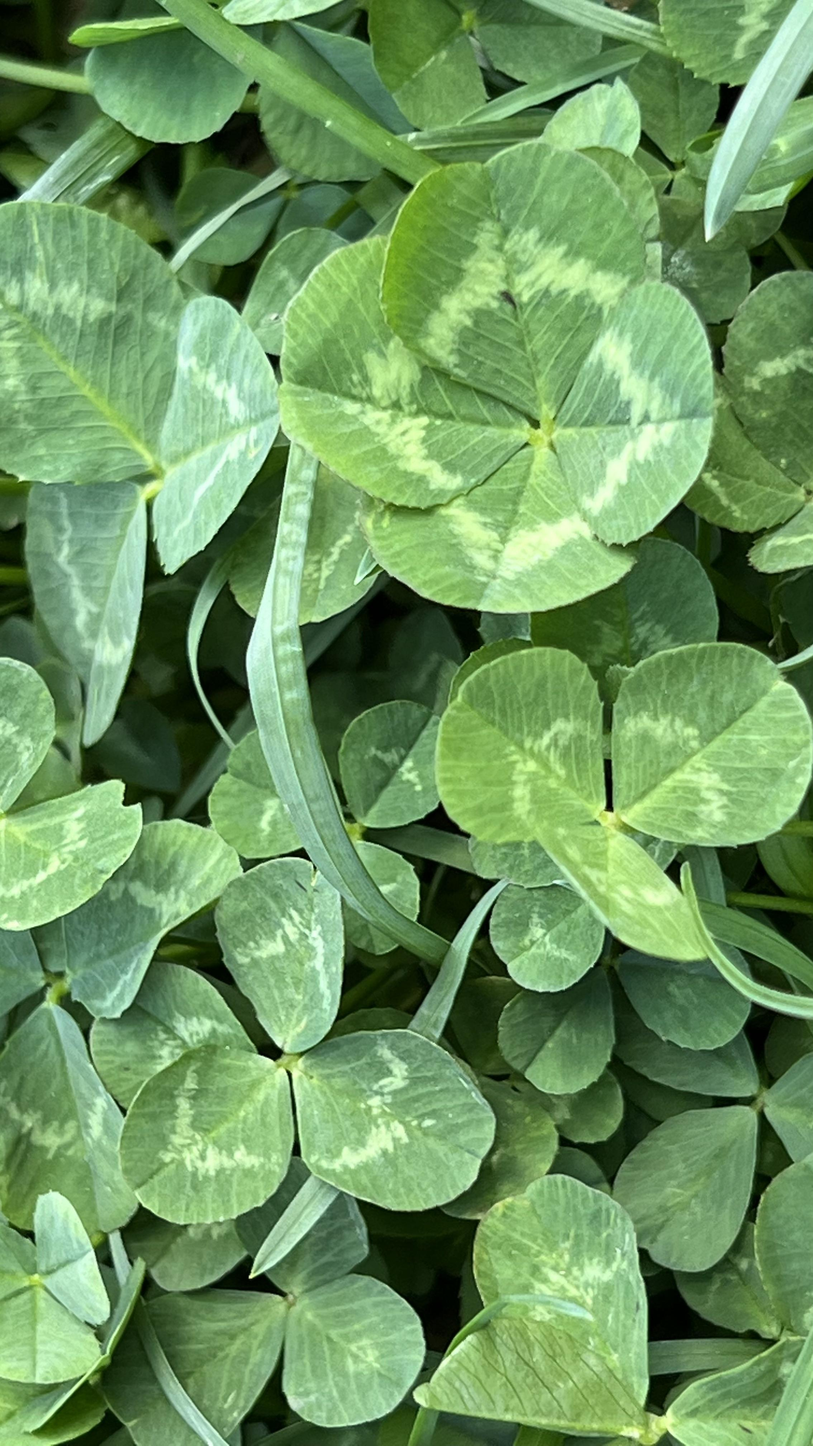4-Leaf-Clovers: (85, 174, 345, 956)
